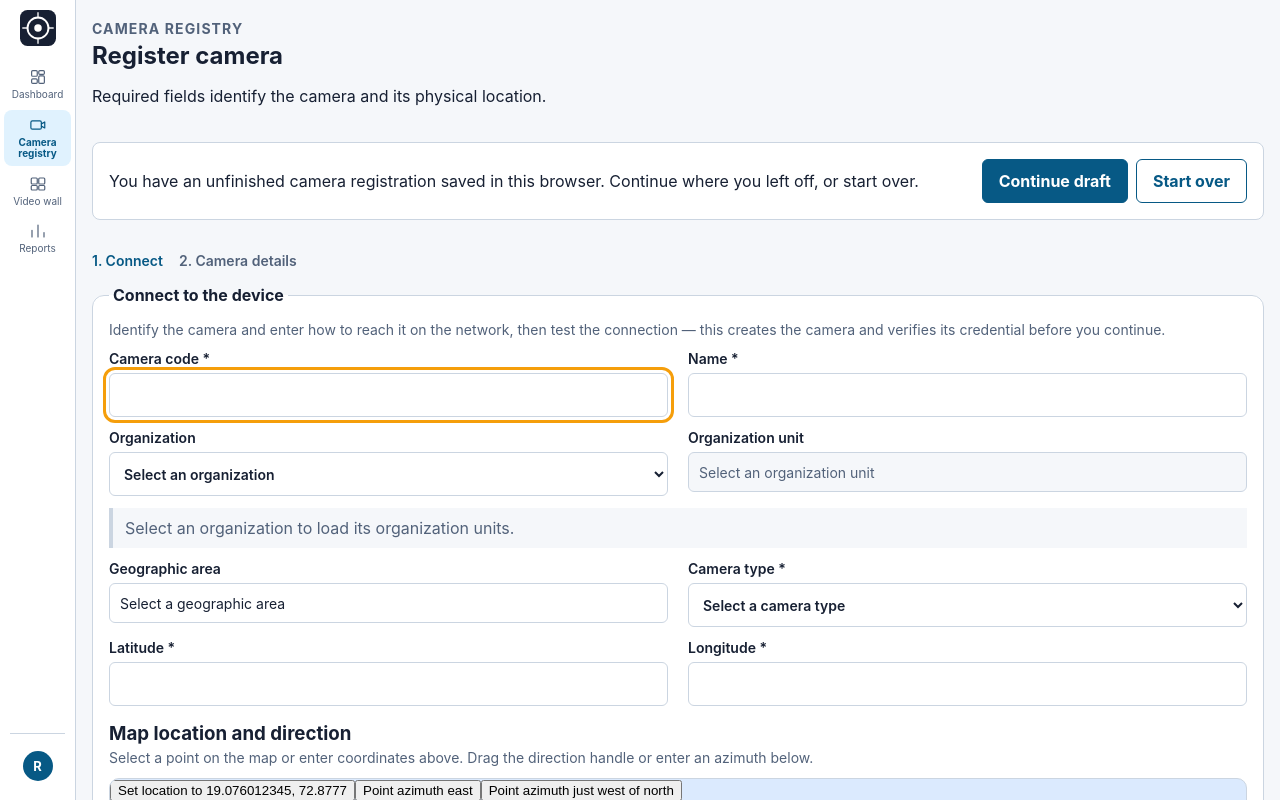
it: explains why an organization unit is unavailable when the selected organization has none
Select "Operations (OPS)" in the dropdown labelled "Organization" at (388, 474), box [109,452,668,496]
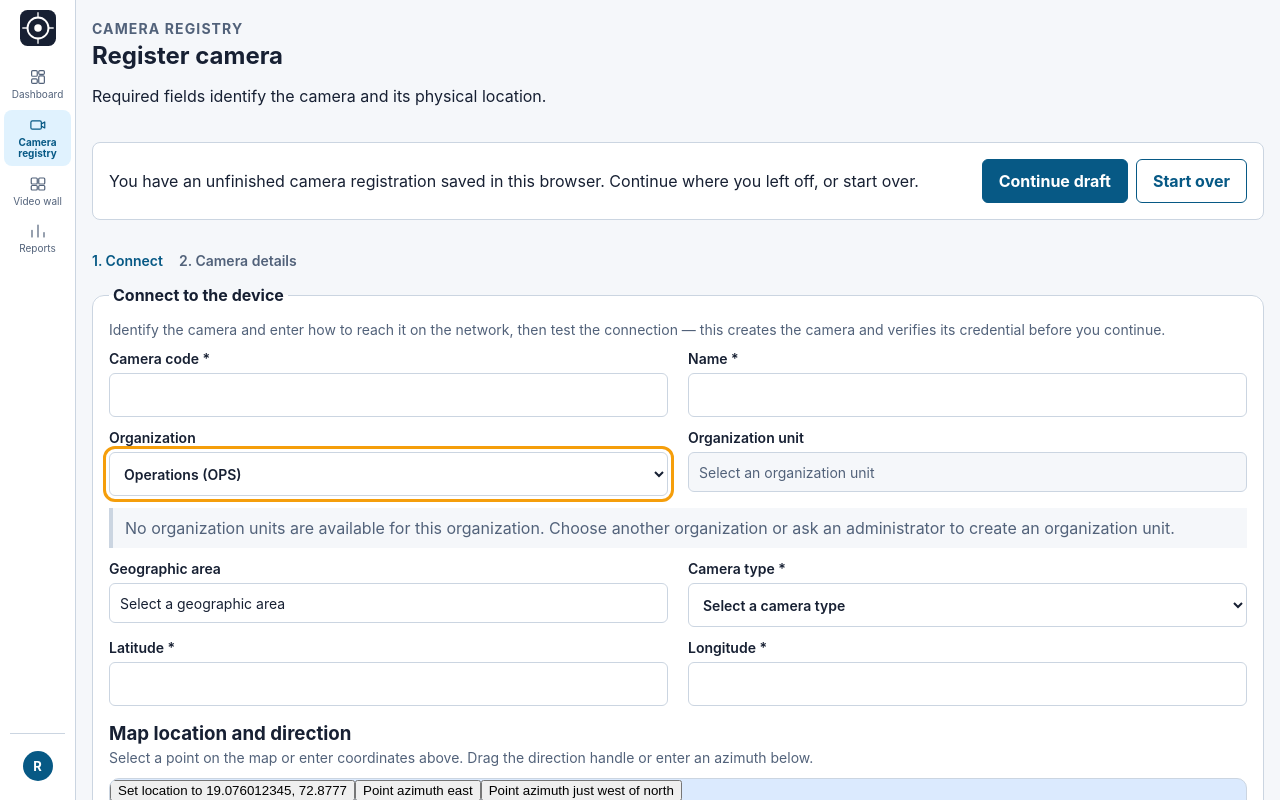
Expected: the dropdown labelled "Select an organization unit" is disabled, [688,452,1247,492]
Expected: the text "No organization units are available for this organization" shows "choose another organization or ask an administrator", [125,518,1175,538]
